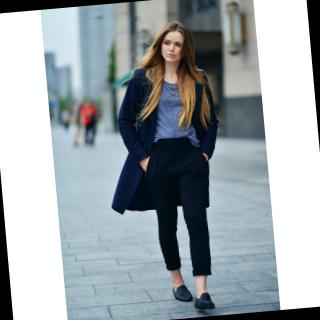loafers: (166, 278, 222, 319)
